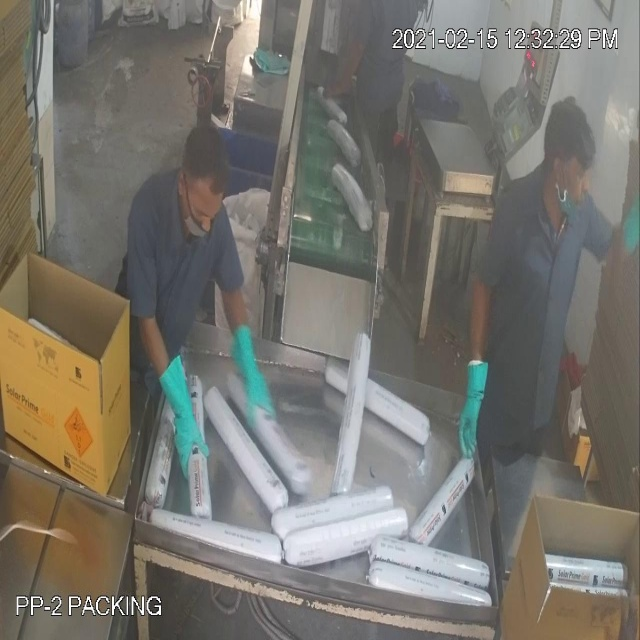Guantes: (151, 345, 215, 490), (228, 302, 275, 435), (458, 339, 494, 476)
Sin_guantes: (317, 32, 373, 104)
